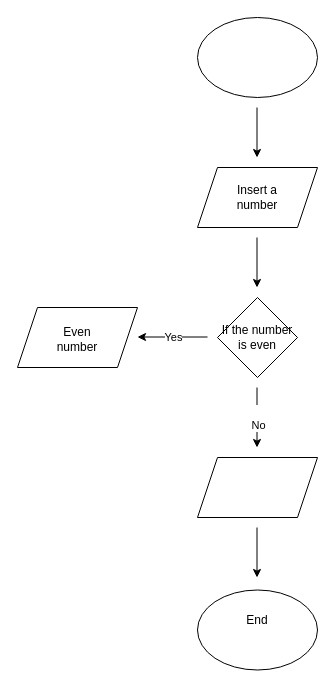
Image size: 335x688. Some labels were removed from this diagram. Here are the shapes that lost their labels. From the top down, the box of each, then its label:
(196, 16, 318, 98): Start
(196, 456, 318, 518): Odd number
